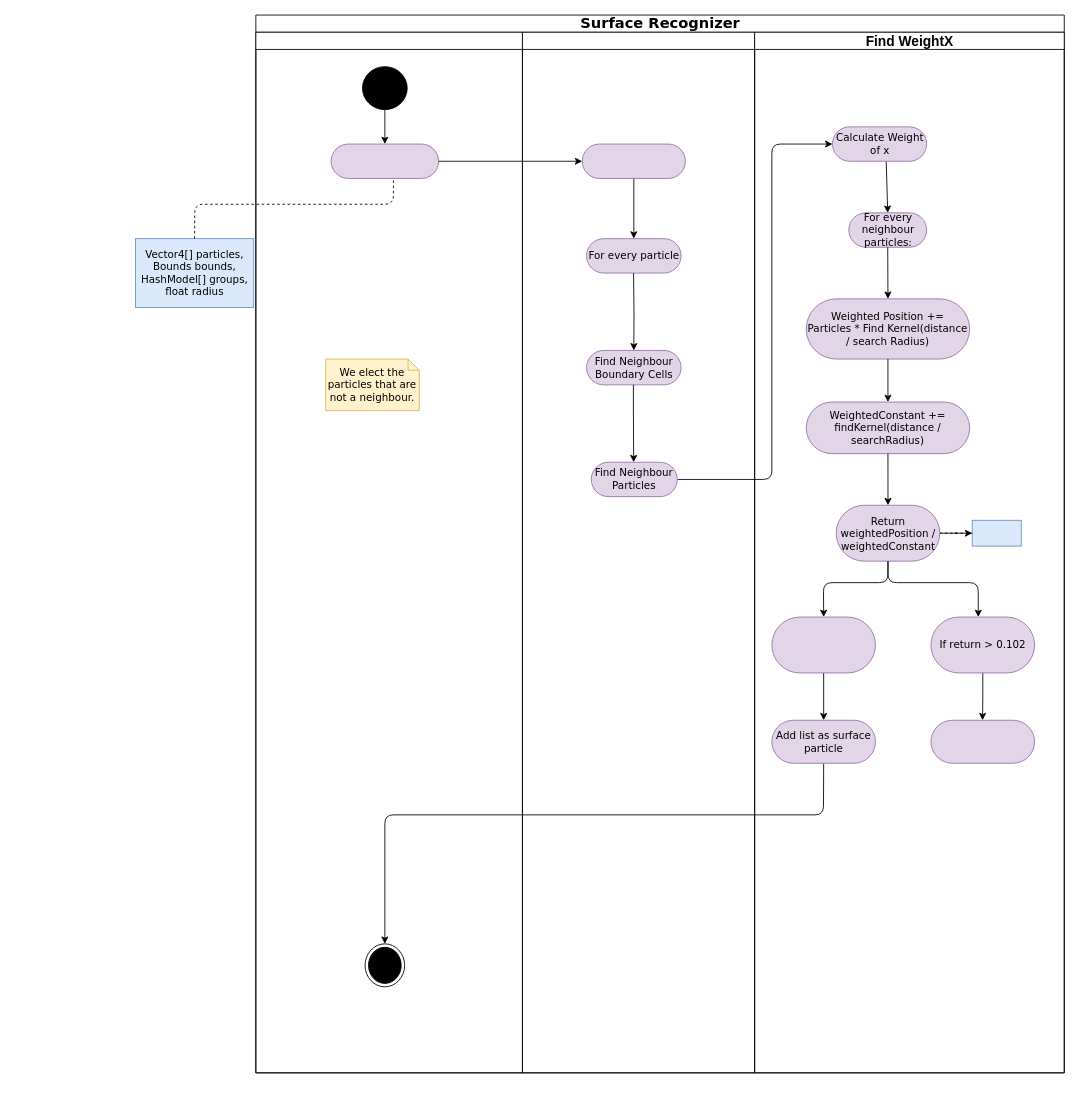
This 1079x1117 diagram has some shape labels left out. Here are the shapes that lost their labels. From the top down, the box of each, then its label:
(330, 143, 439, 178): Send particles, bounds, groups, radius
(581, 143, 685, 178): Set Data
(255, 31, 522, 1073): Handler
(522, 31, 755, 1073): Find Boundary
(971, 519, 1021, 546): Float
(771, 616, 875, 673): If return <= 0.102
(930, 719, 1035, 763): Do Nothing
